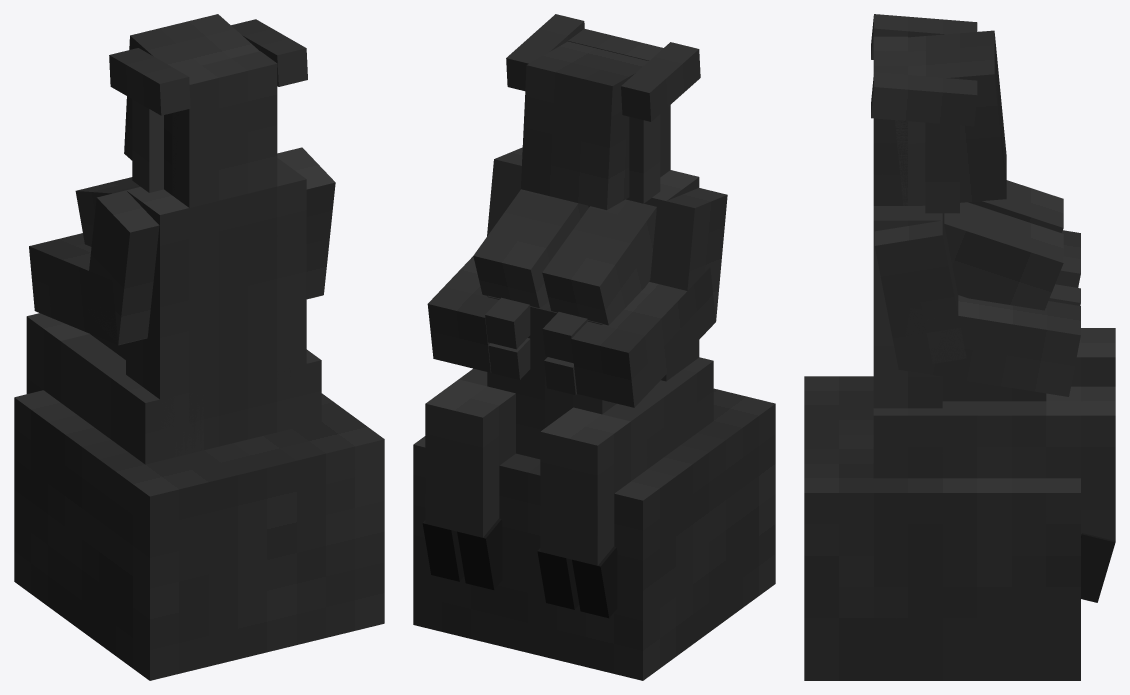
Rendered from shubniggurathstatue.obj.
3 views of the same model, side by side, from view 1: azimuth 30°, elevation 25°; view 2: azimuth 150°, elevation 25°; view 3: azimuth 270°, elevation 25° (orthographic). The views are drawn at different scales.
Parts seen in each view (by area): view 1: base, body2, head2, leftleg1, leftarm1, leftarm2, head1, lefthorn, rightarm1, leftleg2, leftear, righthorn (+2 smaller); view 2: base, head1, leftleg2, rightleg2, leftarm2, body3, body4, leftarm1, leftleg1, body1, rightarm2, lefthorn (+13 smaller); view 3: base, rightleg1, rightarm2, head1, rightarm1, body4, rightleg2, body2, righthorn, head2, rightear, body3 (+7 smaller).
Boxes of the visible parts, x1,y1,x2,y2 form: base: (14,390,384,680); body2: (126,158,306,460); head2: (172,51,277,207); leftleg1: (60,334,203,464); leftarm1: (89,190,159,344); leftarm2: (29,233,147,345); head1: (124,14,259,196); lefthorn: (109,48,190,115); rightarm1: (277,147,335,298); leftleg2: (26,313,89,402); leftear: (132,99,163,192); righthorn: (231,19,307,86); base: (413,388,775,680); head1: (520,41,648,209); leftleg2: (540,407,630,565); rightleg2: (425,379,515,537); leftarm2: (571,267,715,407); body3: (542,199,656,325); body4: (473,189,588,308); leftarm1: (644,188,727,320); leftleg1: (602,357,713,480); body1: (487,295,616,459); rightarm2: (427,256,498,372); lefthorn: (621,42,700,121); base: (804,376,1080,680); rightleg1: (873,401,1046,478); rightarm2: (898,295,1080,396); head1: (895,30,1006,205); rightarm1: (874,213,966,368); body4: (944,202,1063,310); rightleg2: (1046,386,1115,540); body2: (873,205,942,408); righthorn: (871,72,977,126); head2: (873,36,907,205); rightear: (925,122,959,213); body3: (968,180,1063,232).
Size of the model in its own units: 0.5 by 1.14 by 0.5625.
